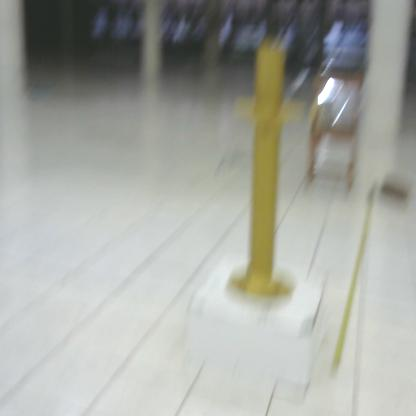pole: (223, 38, 308, 306)
